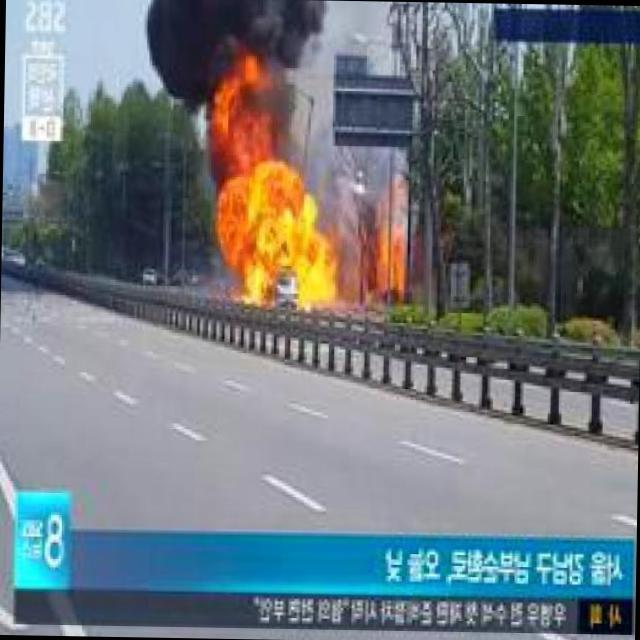Fire: (238, 166, 300, 298), (301, 222, 333, 307), (382, 238, 407, 300)
